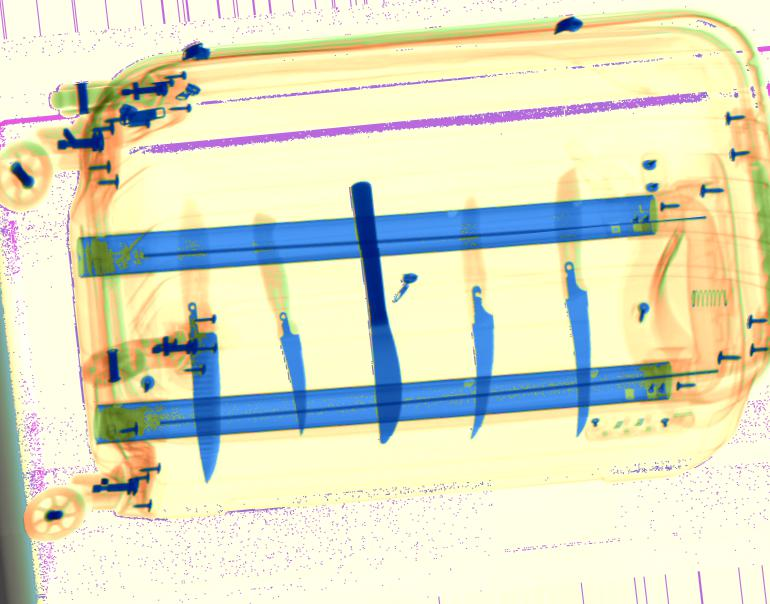Knife: (349, 181, 404, 444), (180, 271, 220, 485), (257, 266, 307, 436), (559, 246, 591, 437), (462, 257, 495, 438)
